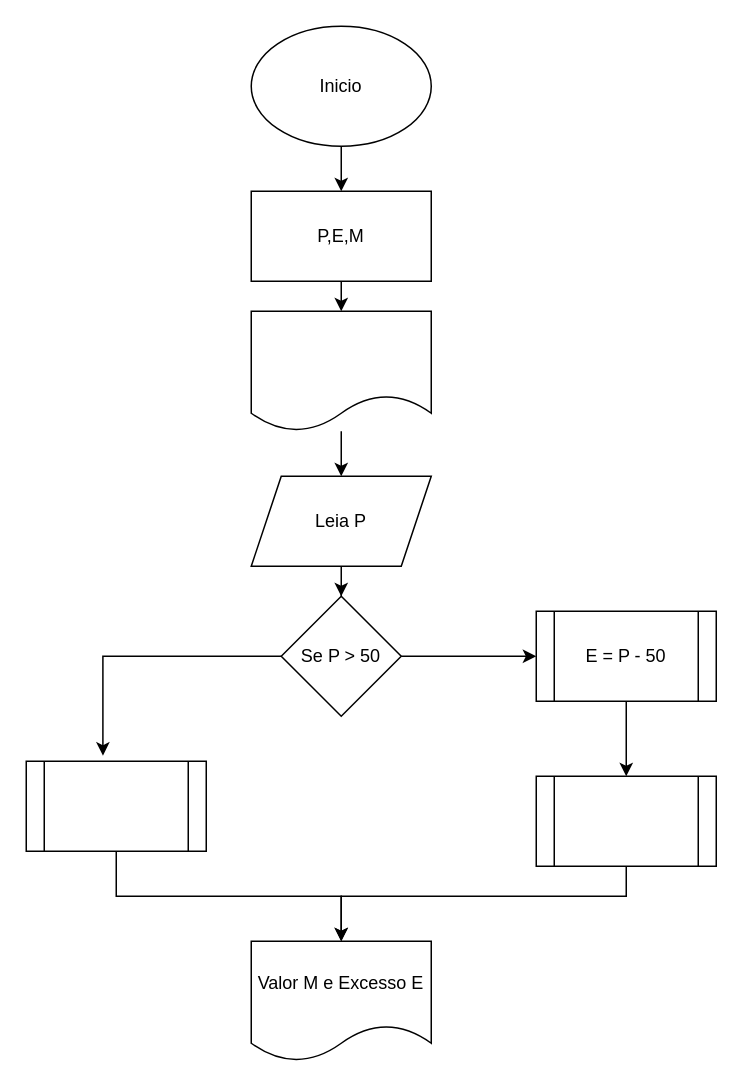
Image size: 743x1088. Some labels were removed from this diagram. The centre of each missing label's shape, as x and y in pixels:
E=0 e M=0: pixel 115 805
Escreva P: pixel 340 370
M = E*4: pixel 625 820
